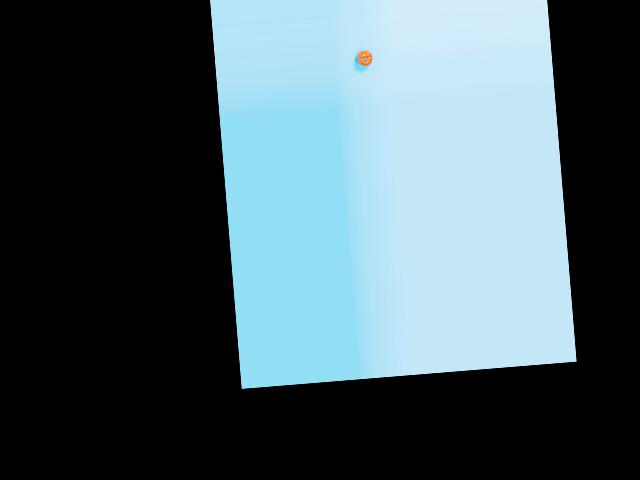tomato: (356, 50, 373, 67)
